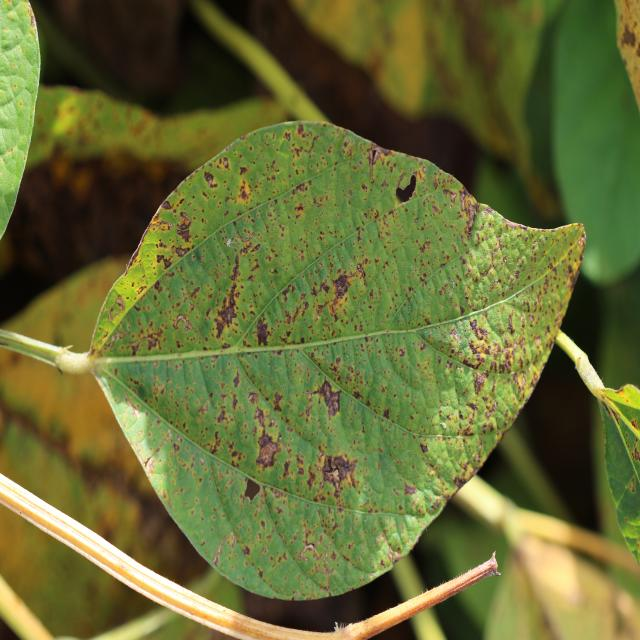Bacterial_Blight: (318, 434, 358, 498), (325, 271, 360, 319), (312, 376, 340, 417), (255, 435, 280, 469), (213, 530, 237, 565), (458, 189, 478, 230), (364, 145, 384, 184), (127, 331, 159, 355), (395, 173, 417, 204), (299, 533, 320, 565), (216, 303, 237, 331), (107, 295, 126, 323), (175, 213, 192, 243), (621, 22, 637, 49), (173, 314, 195, 333), (255, 318, 270, 345), (469, 317, 487, 339), (472, 371, 488, 395), (254, 406, 270, 428), (156, 253, 173, 270), (237, 182, 250, 202), (203, 170, 218, 187), (627, 475, 638, 493), (403, 481, 417, 495), (507, 313, 516, 333), (248, 392, 259, 405), (420, 443, 428, 454)
Soybean: (0, 121, 586, 600)
